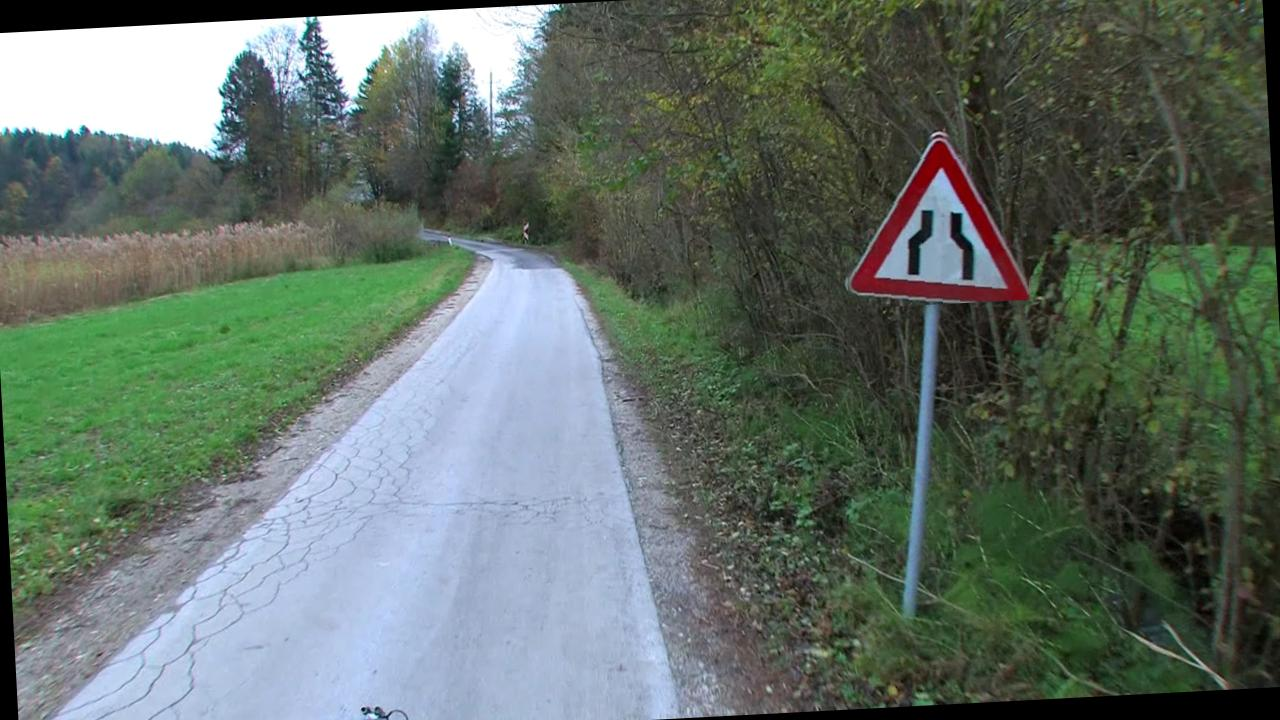Triangle: (836, 126, 1030, 309)
